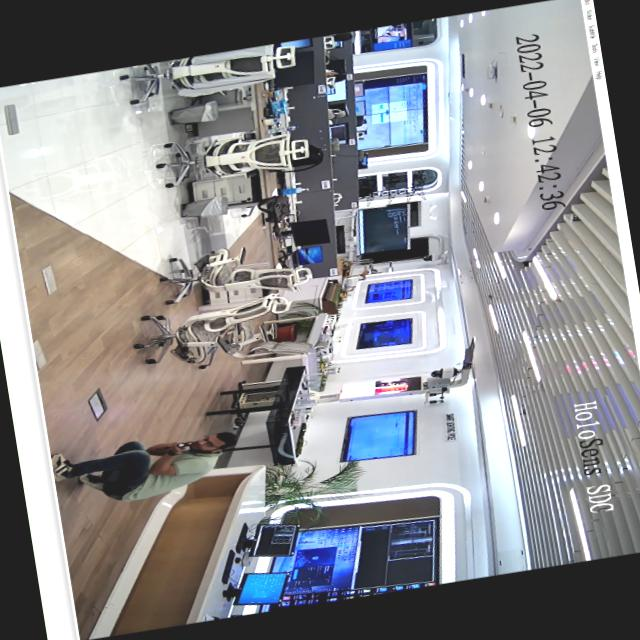long weapon: (156, 439, 194, 454)
